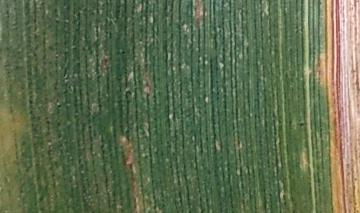tarspot: (297, 119, 307, 129)
